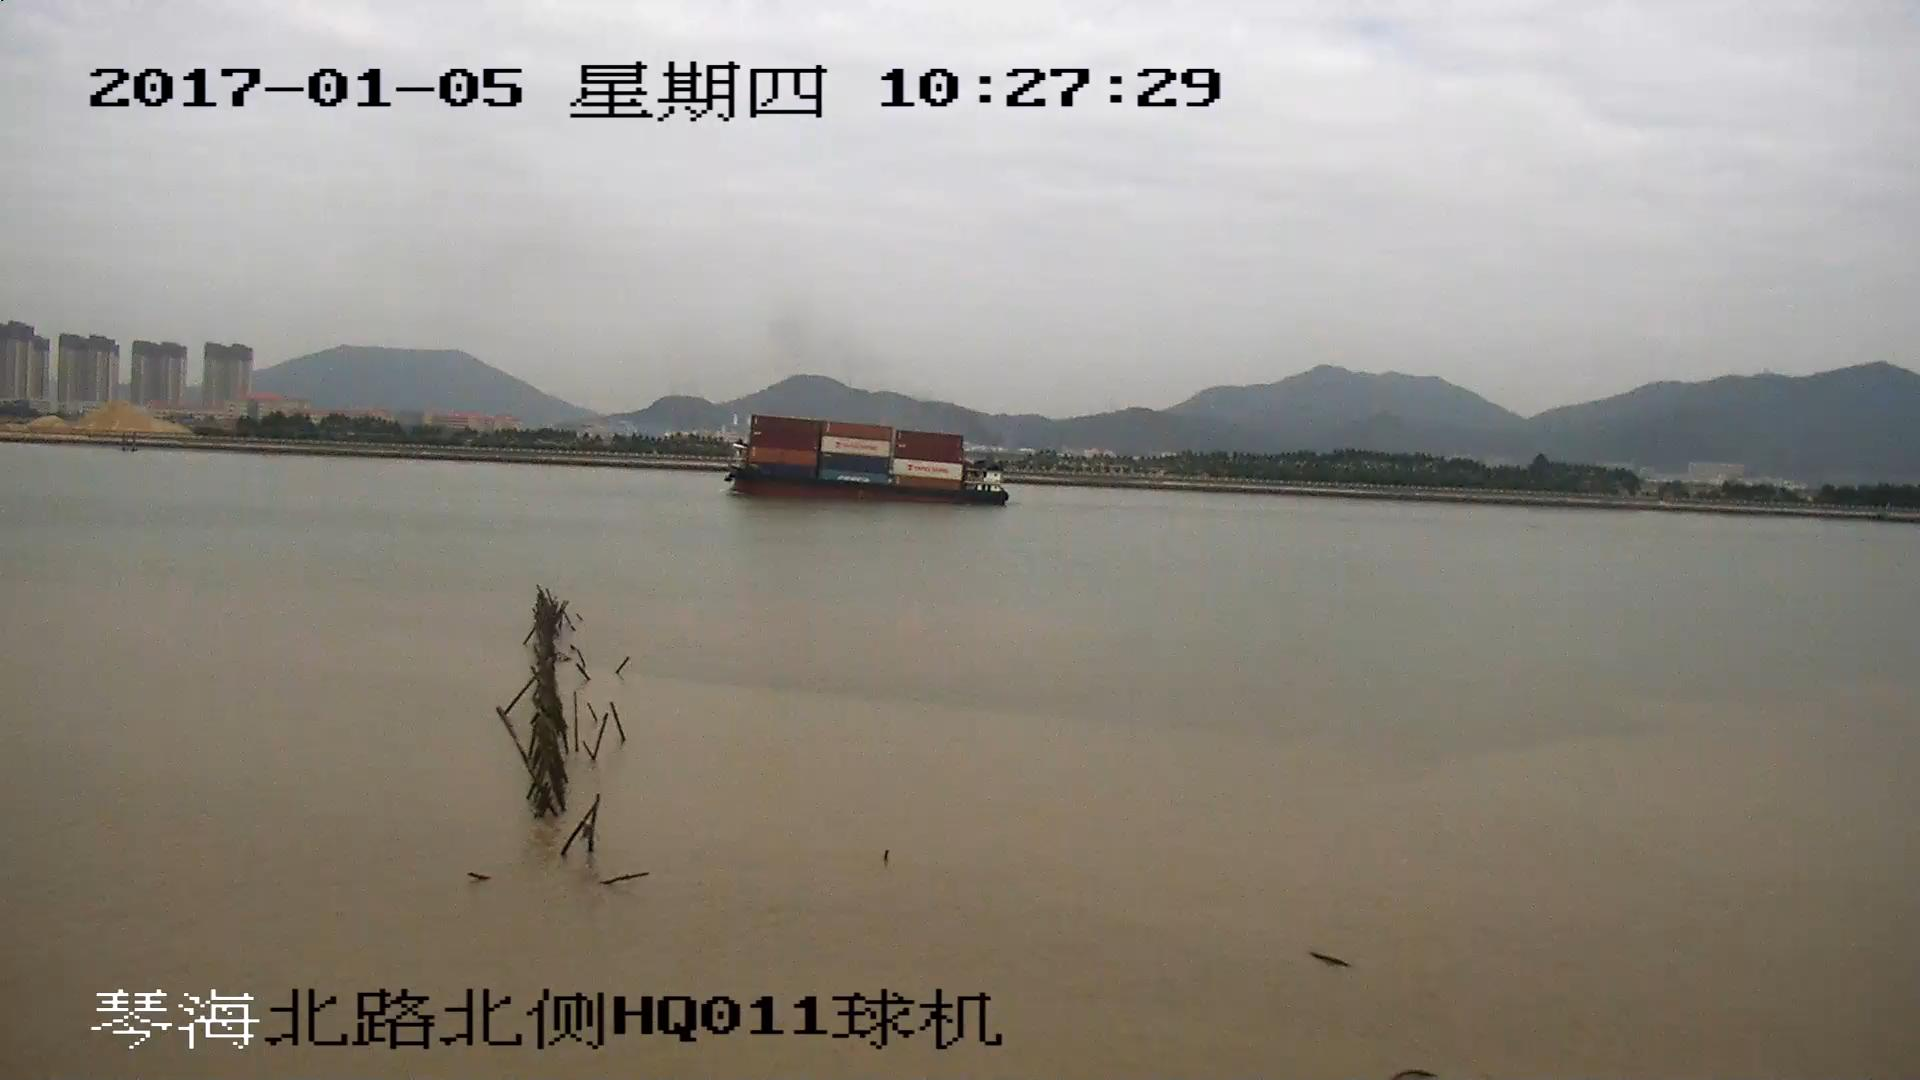container ship: (717, 415, 1008, 507)
